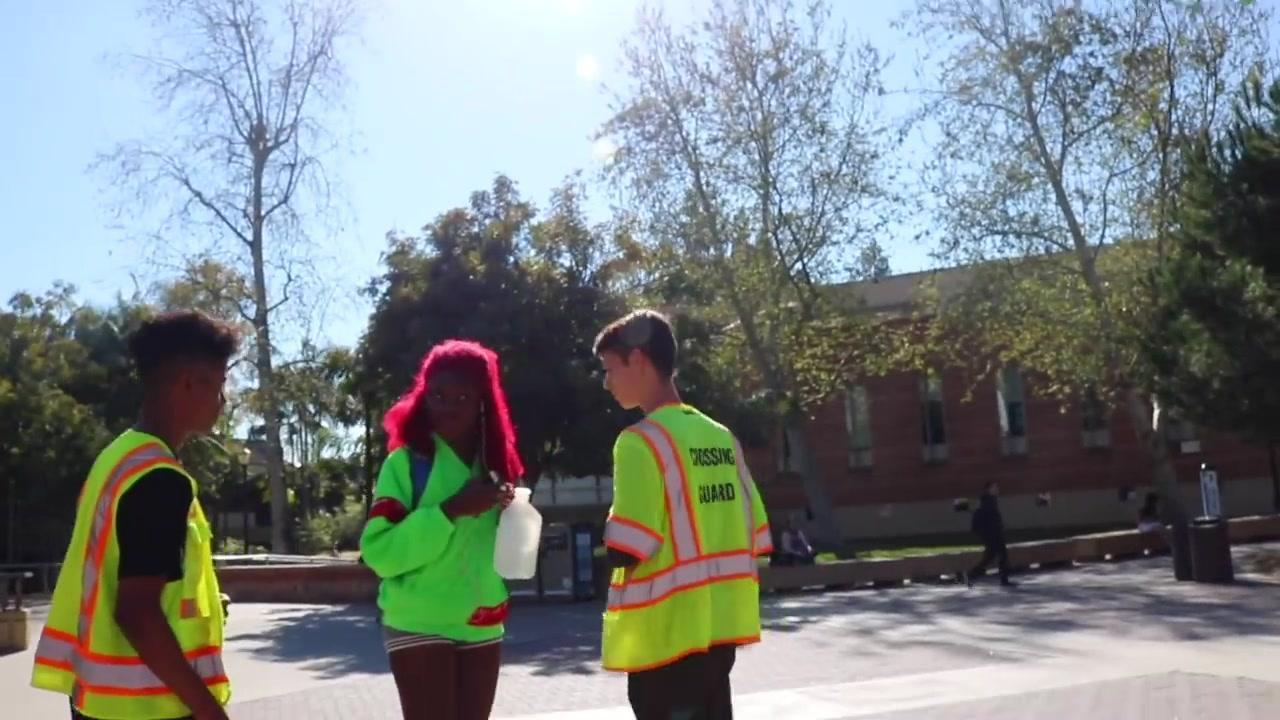vest: (27, 427, 234, 716), (595, 402, 772, 671)
